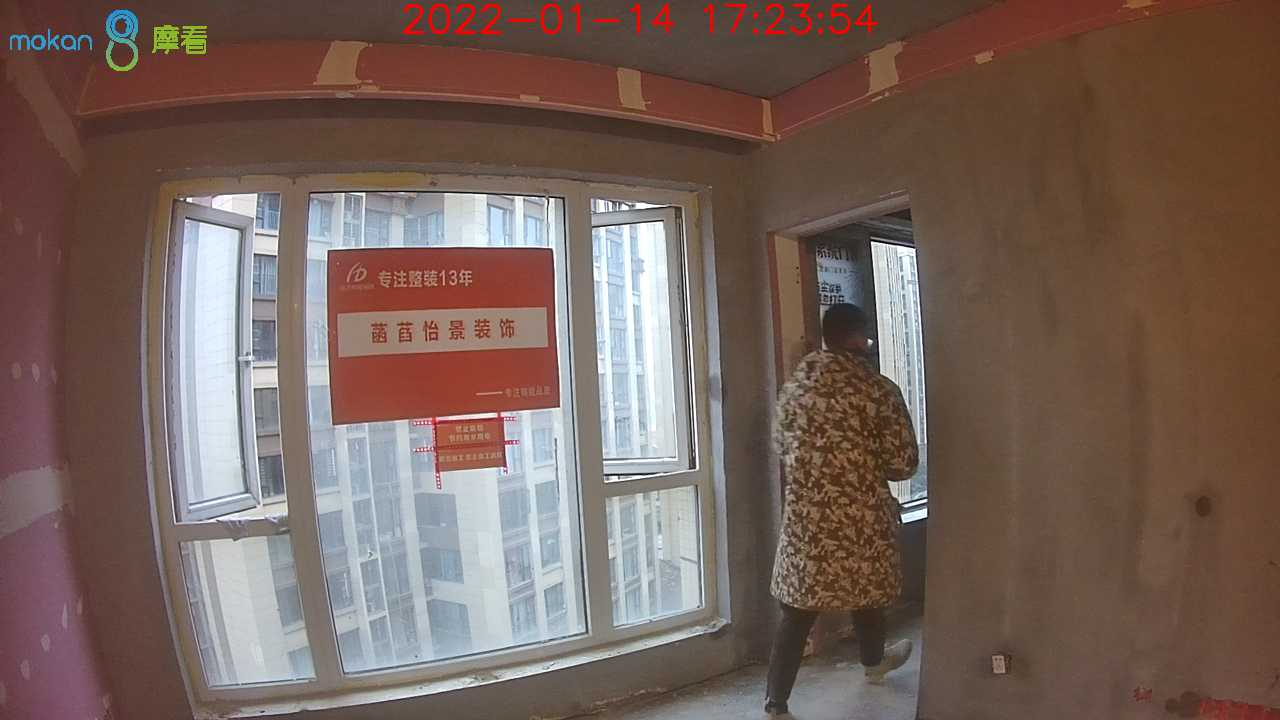people: (763, 301, 920, 719)
window: (158, 179, 730, 704), (820, 242, 931, 514)
